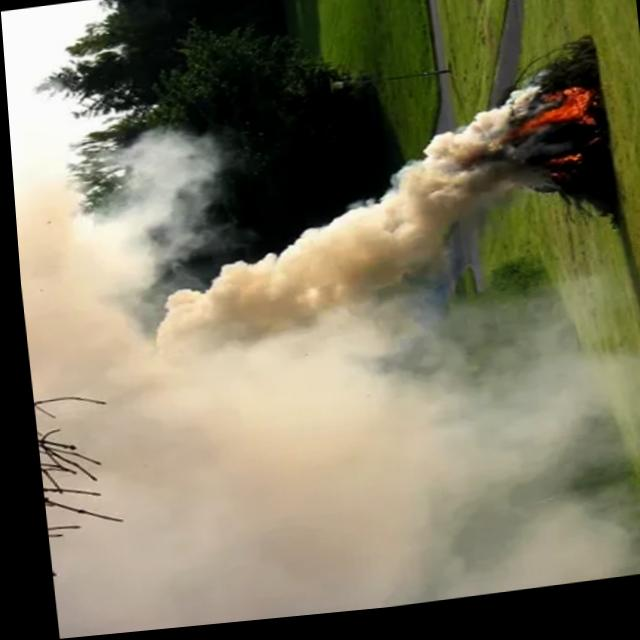Smoke: (10, 126, 573, 640)
